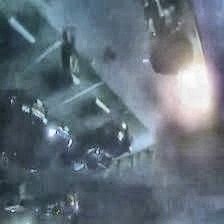fire: (162, 39, 218, 129)
